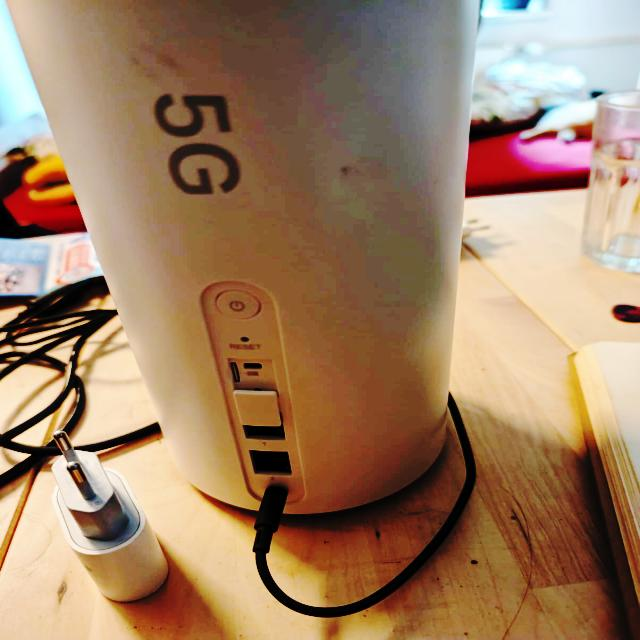lan: (248, 450, 293, 476)
modem: (0, 0, 487, 518)
onbutton: (216, 292, 261, 321)
powcab: (247, 485, 522, 620)
siminside: (223, 357, 240, 385)
